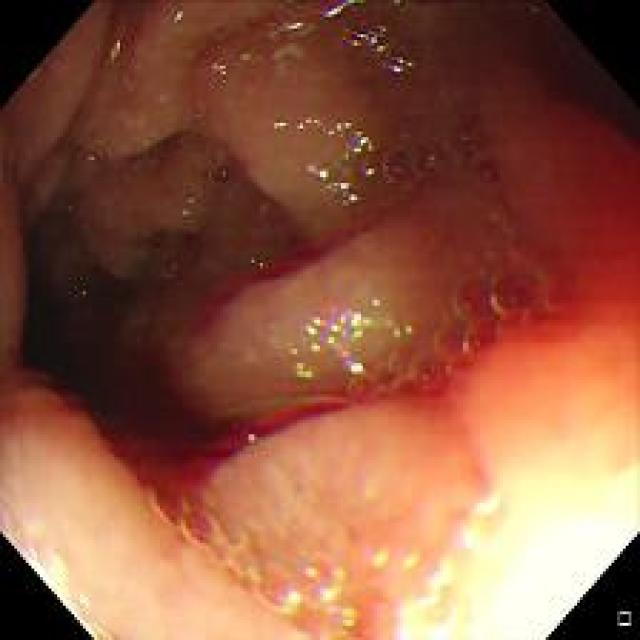bubbles: (150, 484, 344, 619), (418, 236, 559, 394), (379, 131, 444, 186), (348, 364, 422, 396), (382, 359, 405, 374)
color misalignment: (202, 220, 391, 330), (271, 536, 476, 634), (292, 292, 408, 384), (254, 1, 375, 65), (278, 116, 372, 198), (338, 22, 418, 75), (464, 279, 505, 318), (104, 28, 141, 71), (169, 190, 200, 224), (385, 318, 414, 350), (239, 42, 274, 68), (169, 6, 192, 38), (335, 182, 361, 204), (238, 425, 262, 448), (259, 114, 291, 131), (209, 58, 231, 80), (248, 255, 266, 270), (424, 150, 436, 170), (86, 155, 99, 164)
contrast: (16, 196, 275, 501), (444, 8, 631, 331), (346, 36, 504, 198)
saturation: (412, 471, 634, 632), (21, 544, 68, 609)
specularity: (78, 592, 92, 609)
